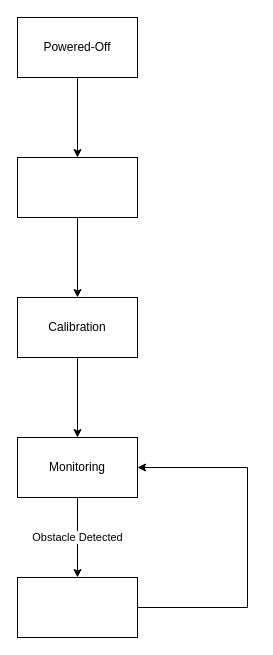
Some shapes in this 273 by 655 pixel diagram are drawn without their labels. The centre of each missing label's shape, as x and y in pixels:
"Booting" belongs at (77,187).
"Haptic Alert" belongs at (77,607).
